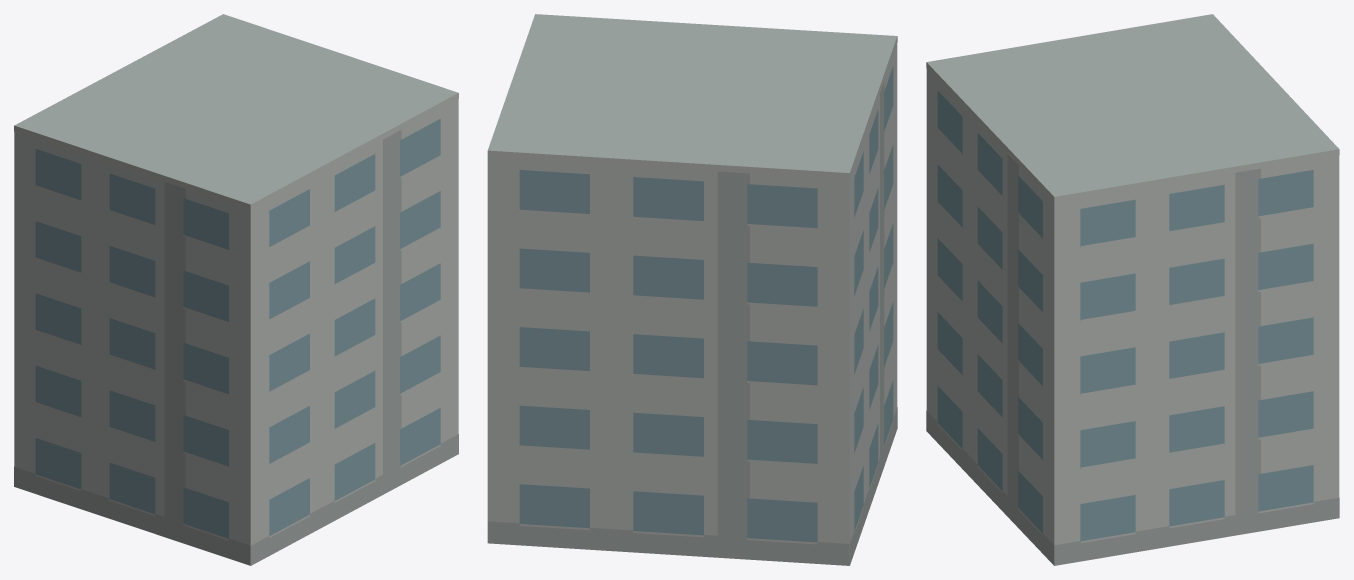
File: survey-upis-32883349.glb
3 views of the same model, side by side, from view 1: azimuth 30°, elevation 25°; view 2: azimuth 150°, elevation 25°; view 3: azimuth 270°, elevation 25° (orthographic). The views are drawn at different scales.
Visible parts, largest first — view 1: survey-upis-32883349.tmp; view 2: survey-upis-32883349.tmp; view 3: survey-upis-32883349.tmp.
Part boxes in pixels (x1,y1,x2,y2): survey-upis-32883349.tmp: [14, 14, 458, 565]; survey-upis-32883349.tmp: [487, 14, 897, 565]; survey-upis-32883349.tmp: [926, 14, 1339, 565].
Size of the model in its own units: 15.53 by 14.6 by 14.82.
